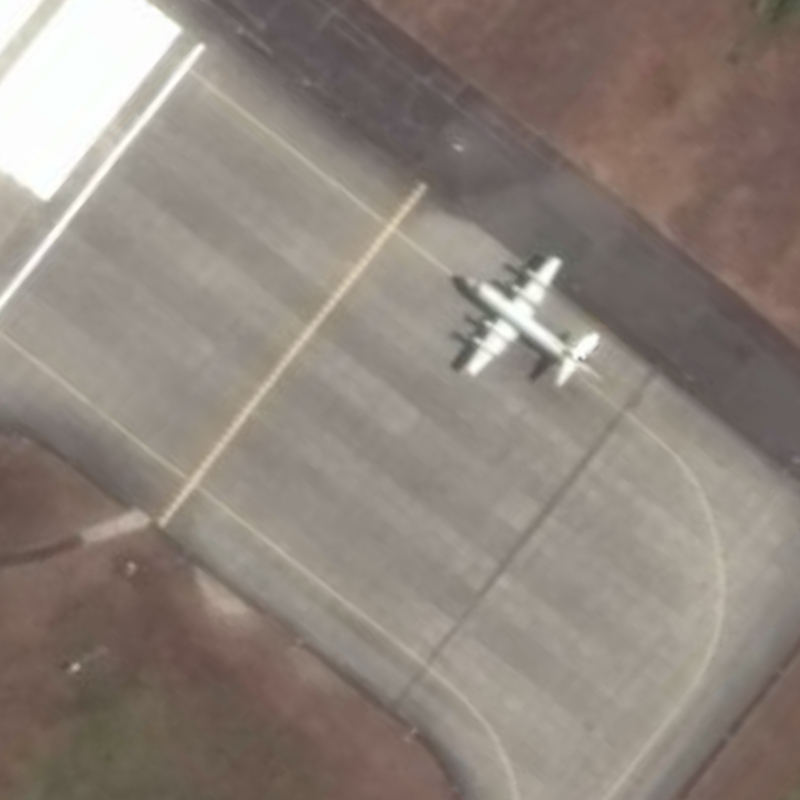A9: (447, 249, 604, 394)
